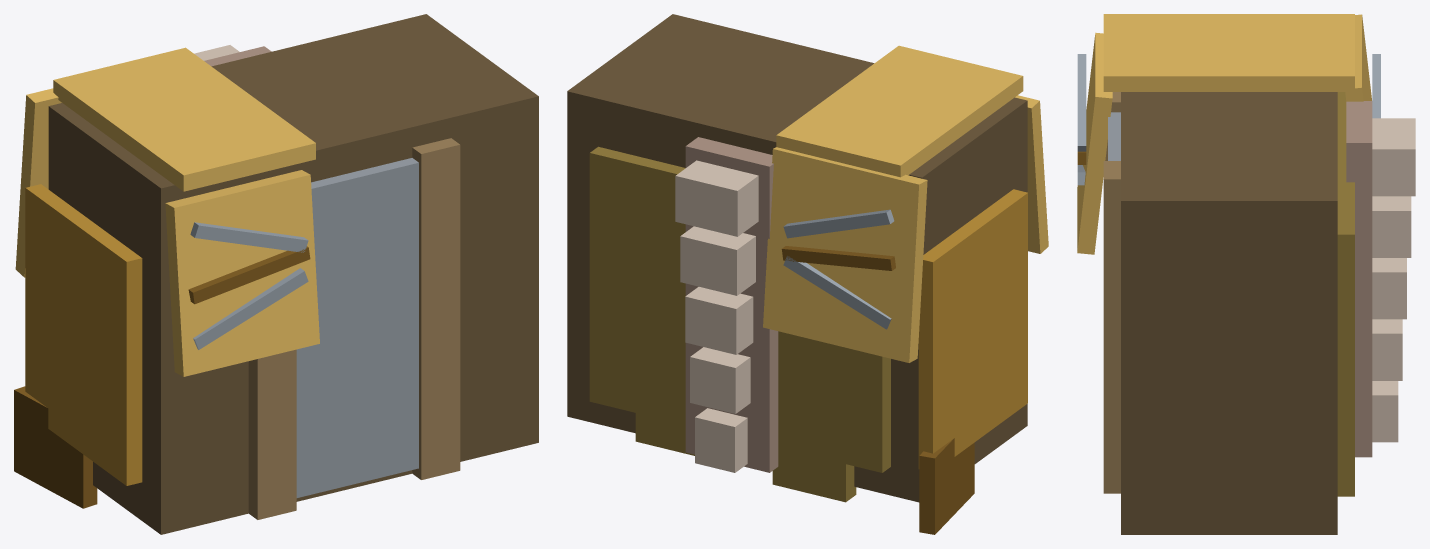
Rendered from inf_possum_upper_torso.fbx.
3 renders of one model, left to right at view 1: azimuth 30°, elevation 25°; view 2: azimuth 150°, elevation 25°; view 3: azimuth 270°, elevation 25°, orthographic. The views are drawn at different scales.
Visible parts, largest first — view 1: inf_possum_upper_torso; view 2: inf_possum_upper_torso; view 3: inf_possum_upper_torso.
Part boxes in pixels (x1=…): inf_possum_upper_torso: x1=14, y1=14, x2=538, y2=534; inf_possum_upper_torso: x1=567, y1=14, x2=1048, y2=534; inf_possum_upper_torso: x1=1077, y1=14, x2=1415, y2=534.
Size of the model in its own units: 206 by 188 by 156.
